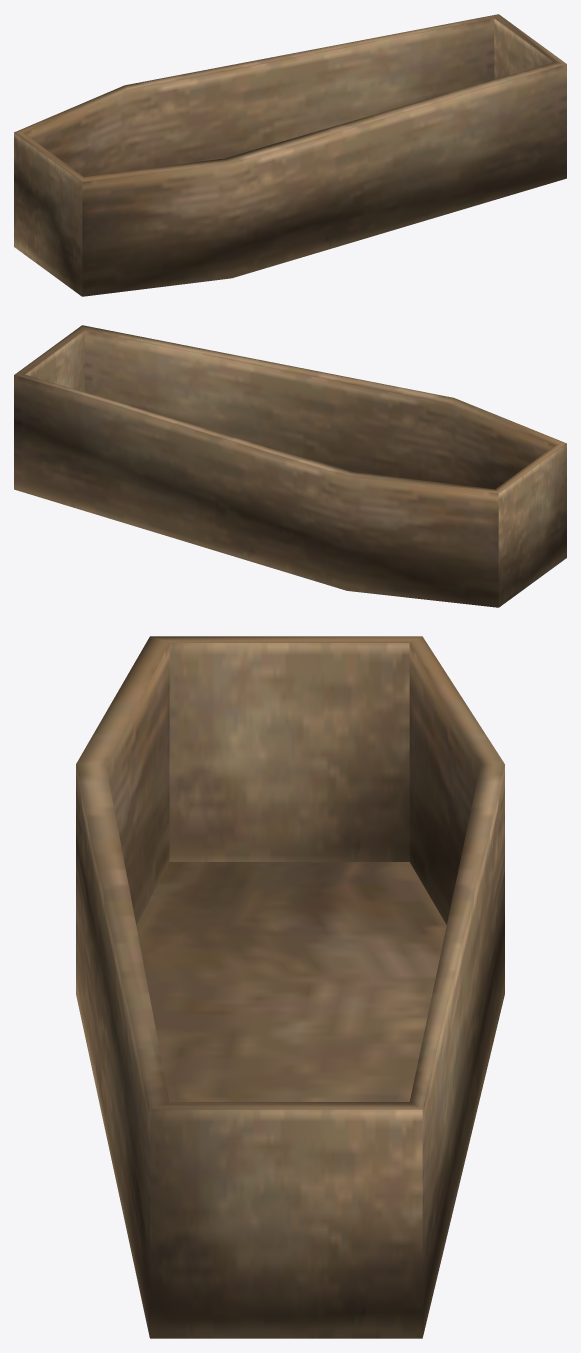
The model's file is coffin.obj.
3 views of the same model, one above another, from view 1: azimuth 30°, elevation 25°; view 2: azimuth 150°, elevation 25°; view 3: azimuth 270°, elevation 25° (orthographic). The views are drawn at different scales.
Visible parts, largest first — view 1: coffin; view 2: coffin; view 3: coffin.
Part boxes in pixels (x1,y1,x2,y2): coffin: [14, 14, 566, 296]; coffin: [14, 325, 566, 607]; coffin: [76, 636, 504, 1338].
Size of the model in its own units: 2.77 by 0.625 by 1.06.
Materials: 1 (1 with a texture image).
